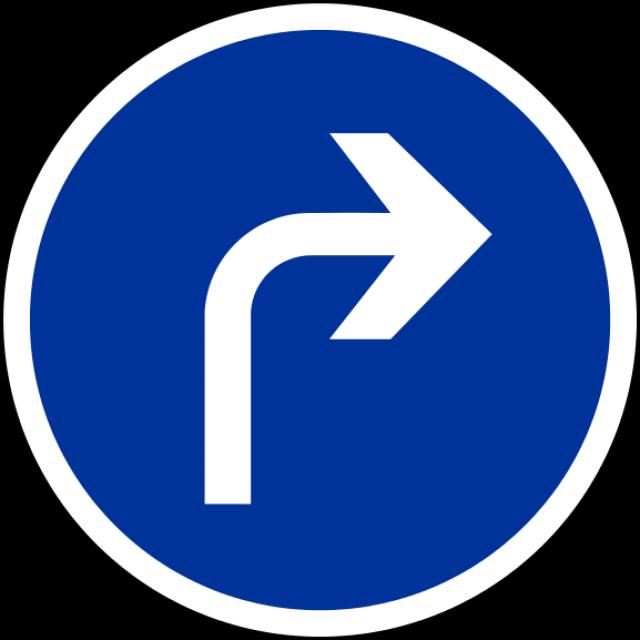right: (174, 120, 500, 515)
